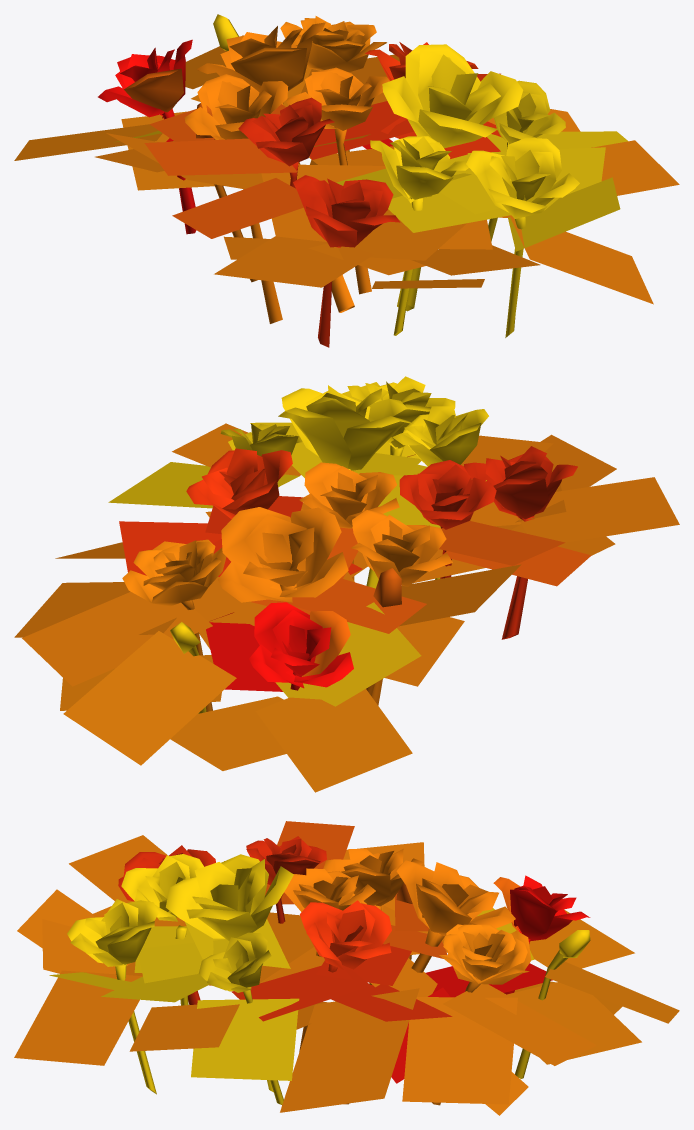
File: G_FlowerCar_001_S1.fbx
The picture shows the model from 3 angles, top to bottom: view 1: azimuth 30°, elevation 25°; view 2: azimuth 150°, elevation 25°; view 3: azimuth 270°, elevation 25°; orthographic projection. The views are drawn at different scales.
Parts seen in each view (by area): view 1: G_FlowerCar_001_S1_P01_LOD0; view 2: G_FlowerCar_001_S1_P01_LOD0; view 3: G_FlowerCar_001_S1_P01_LOD0.
Boxes of the visible parts, box(x1,y1,x2,y2) form: G_FlowerCar_001_S1_P01_LOD0: box(14, 14, 679, 347); G_FlowerCar_001_S1_P01_LOD0: box(14, 376, 679, 792); G_FlowerCar_001_S1_P01_LOD0: box(14, 821, 679, 1115).
Size of the model in its own units: 102 by 59.08 by 134.
